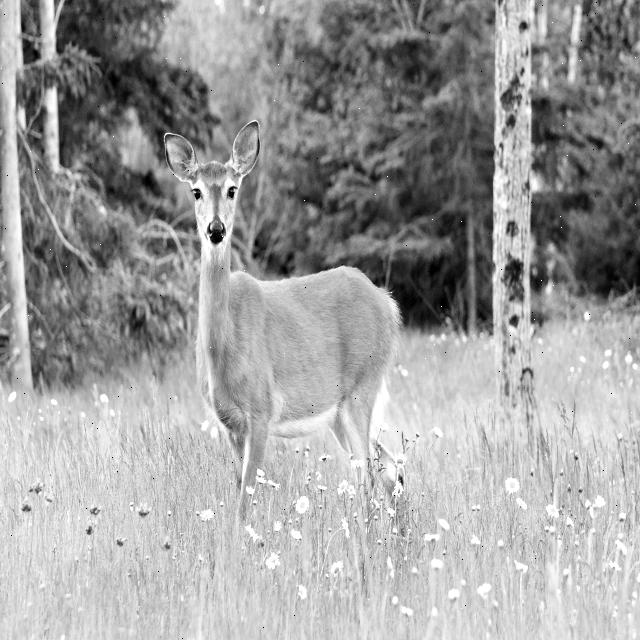deer: (150, 89, 422, 535)
